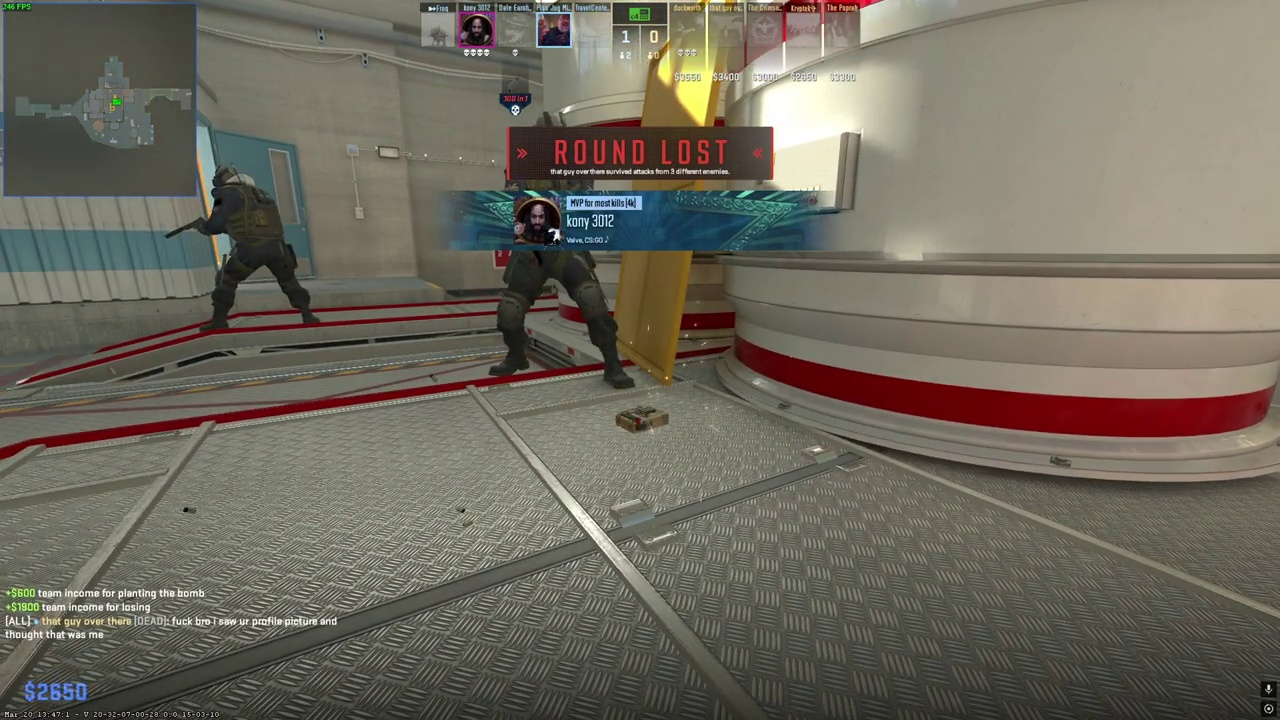CT: (483, 127, 631, 390), (199, 162, 308, 337)
